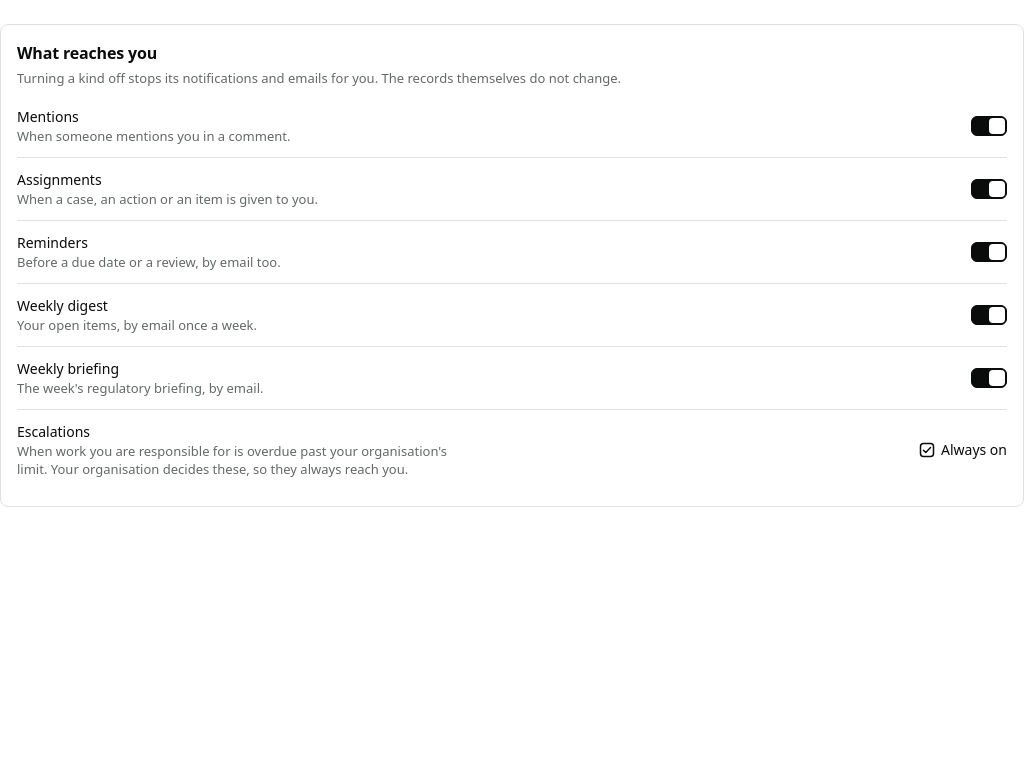
Test: notification preferences › puts the switch back and shows the server refusal by its code
Click the switch named "Assignments" in the row of "Assignments" at (989, 189), box top-left (971, 179), bottom-right (1007, 199)
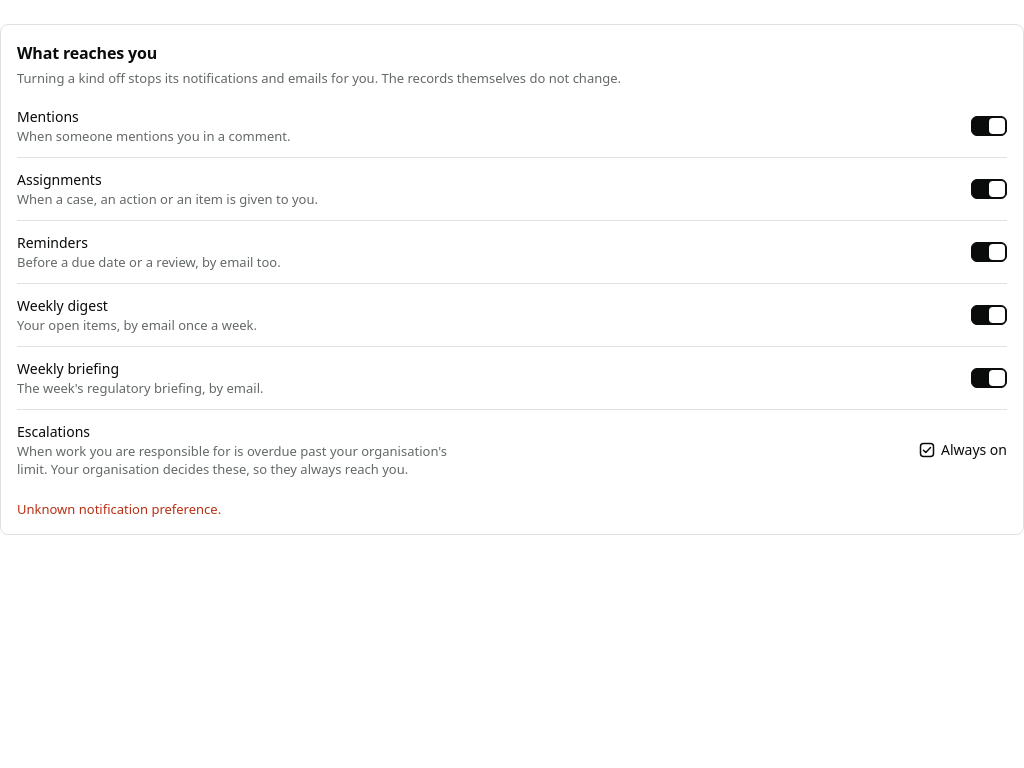
Expected: the message reads "Unknown notification preference.", top-left (17, 500), bottom-right (221, 518)
